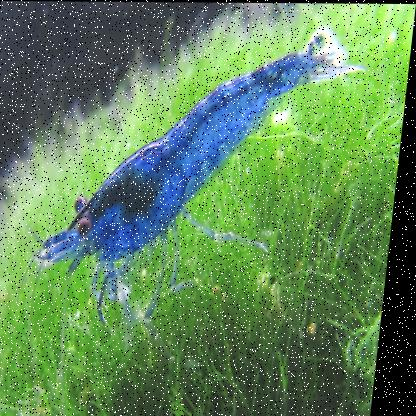shrimp: (27, 25, 370, 357)
